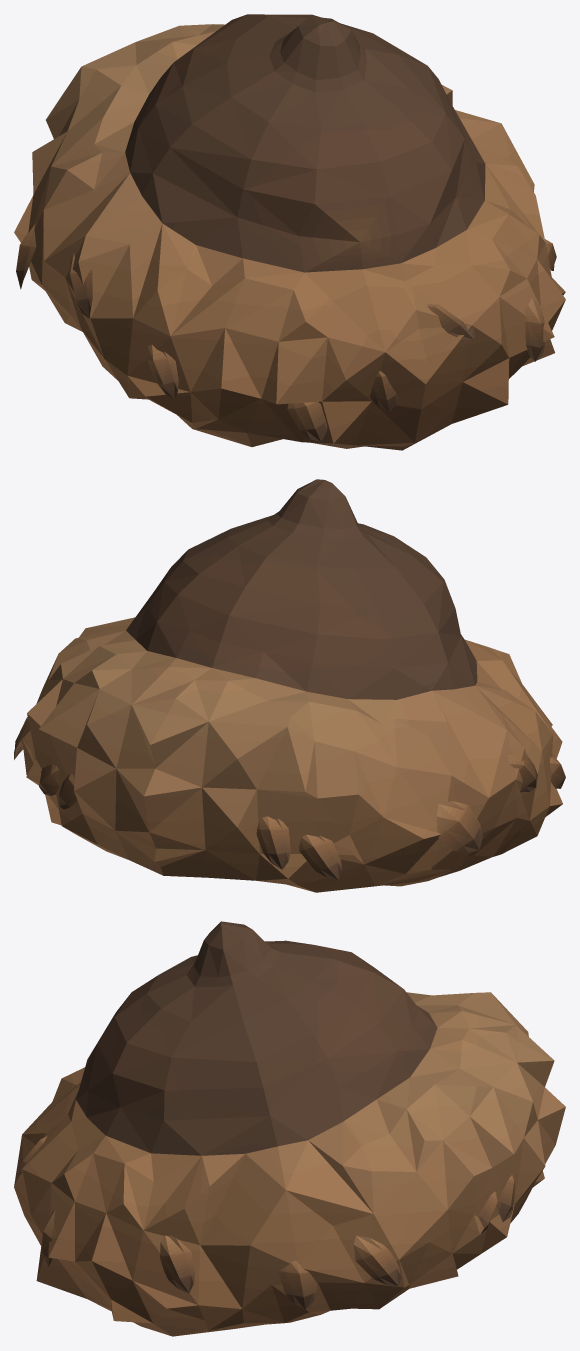
Rendered from CharSkyKid_Horn_AP13AcornHat_01.glb.
The picture shows the model from 3 angles, top to bottom: view 1: azimuth 30°, elevation 25°; view 2: azimuth 150°, elevation 25°; view 3: azimuth 270°, elevation 25°; orthographic projection. The views are drawn at different scales.
Parts seen in each view (by area): view 1: CharSkyKid_Horn_AP13AcornHat_01; view 2: CharSkyKid_Horn_AP13AcornHat_01; view 3: CharSkyKid_Horn_AP13AcornHat_01.
Part boxes in pixels (x1,y1,x2,y2): CharSkyKid_Horn_AP13AcornHat_01: (14,14,565,450); CharSkyKid_Horn_AP13AcornHat_01: (14,479,565,892); CharSkyKid_Horn_AP13AcornHat_01: (14,921,565,1336).
Bounding box in the file's own units: 4.07 × 3.17 × 4.43.
Materials: 1 (1 with a texture image).
